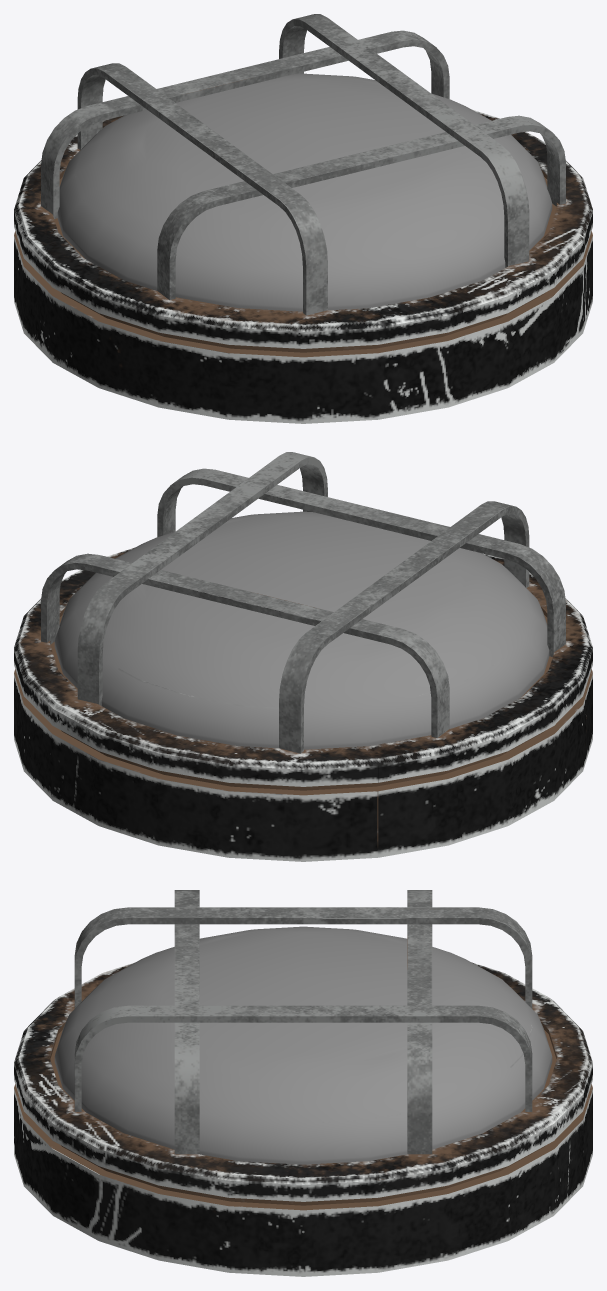
The model's file is SM_Ceiling_Light.fbx.
3 renders of one model, top to bottom at view 1: azimuth 30°, elevation 25°; view 2: azimuth 150°, elevation 25°; view 3: azimuth 270°, elevation 25°, orthographic.
Visible parts, largest first — view 1: SM_Ceiling_Light_Baked; view 2: SM_Ceiling_Light_Baked; view 3: SM_Ceiling_Light_Baked.
Part boxes in pixels (x1,y1,x2,y2): SM_Ceiling_Light_Baked: (14,14,592,423); SM_Ceiling_Light_Baked: (14,452,592,861); SM_Ceiling_Light_Baked: (14,890,592,1276).
Size of the model in its own units: 40.93 by 15.03 by 40.93.
1 material, 1 textured.
